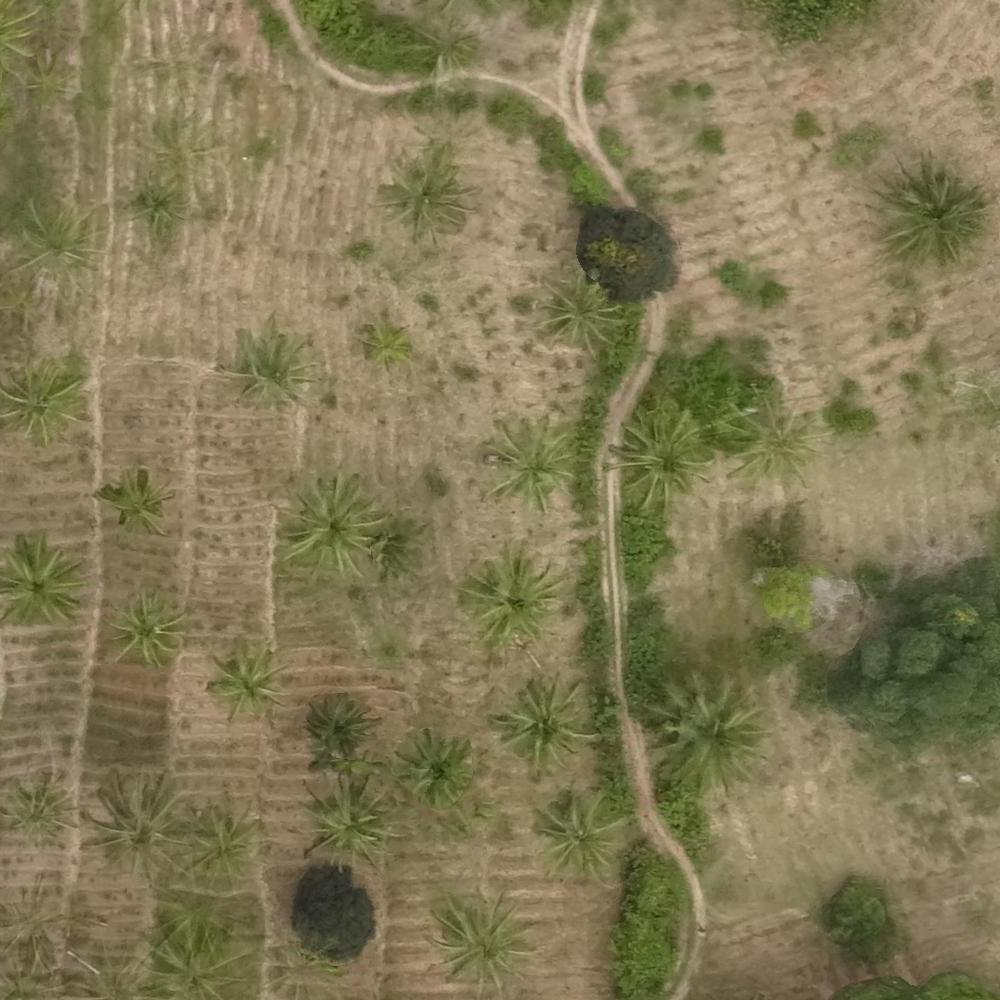not palm: (897, 457, 982, 534), (853, 362, 935, 441), (619, 564, 700, 642), (128, 312, 204, 379), (926, 657, 1000, 725), (382, 404, 455, 472), (822, 877, 899, 941), (251, 200, 324, 266), (933, 571, 1000, 642), (933, 2, 996, 77), (603, 923, 678, 986), (752, 204, 829, 265), (848, 9, 917, 77), (837, 651, 908, 716), (863, 771, 927, 842), (918, 854, 993, 914), (258, 119, 327, 184), (551, 84, 620, 149), (694, 929, 765, 989), (546, 7, 609, 71), (747, 17, 813, 78), (835, 514, 900, 574), (640, 124, 705, 183), (610, 211, 671, 272), (8, 674, 64, 730)
